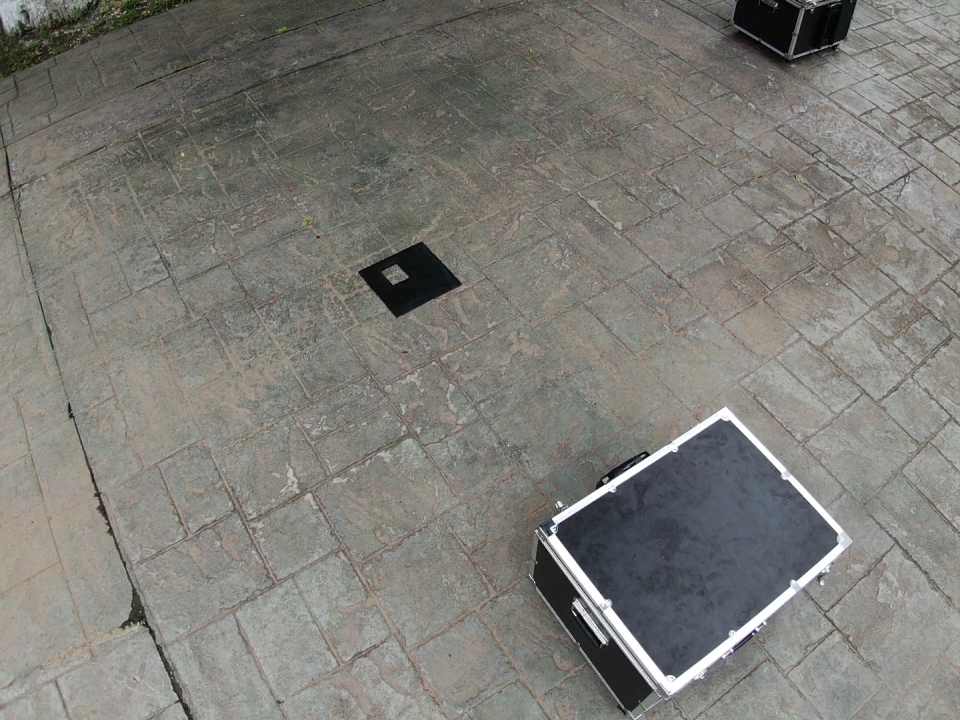box: (529, 405, 852, 717)
qrcode: (358, 242, 462, 317)
